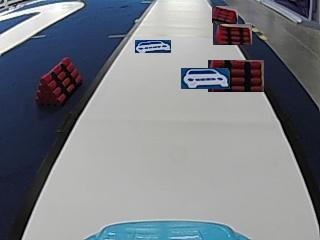bomb: (36, 55, 81, 107)
